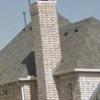Chimney: (24, 2, 68, 70)
